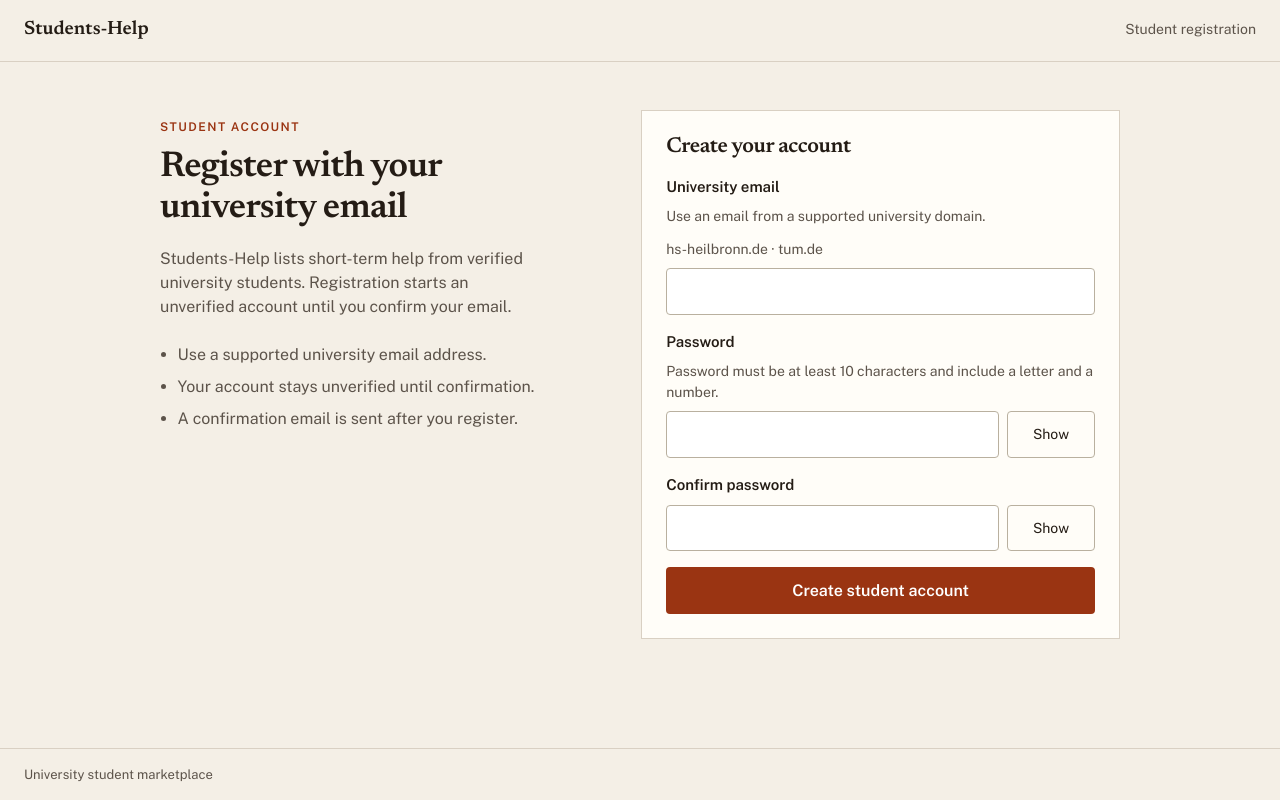
Scenario: Student registration › shows a password mismatch error
The width and height of the screenshot is (1280, 800).
Type "student@tum.de" into the field labelled "University email" at (881, 292), box [666, 268, 1095, 315]
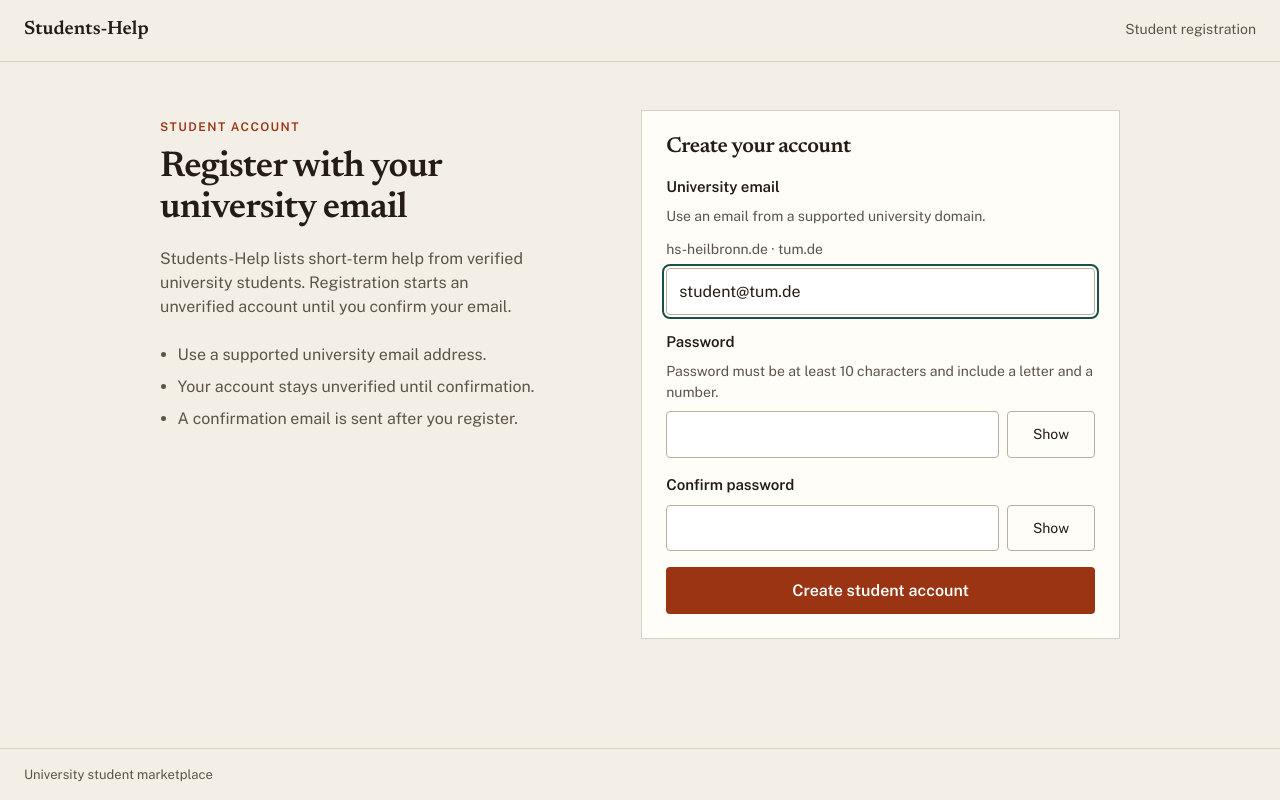
Type "securePass12" into the password field labelled "Password" at (833, 435), box [666, 411, 999, 458]
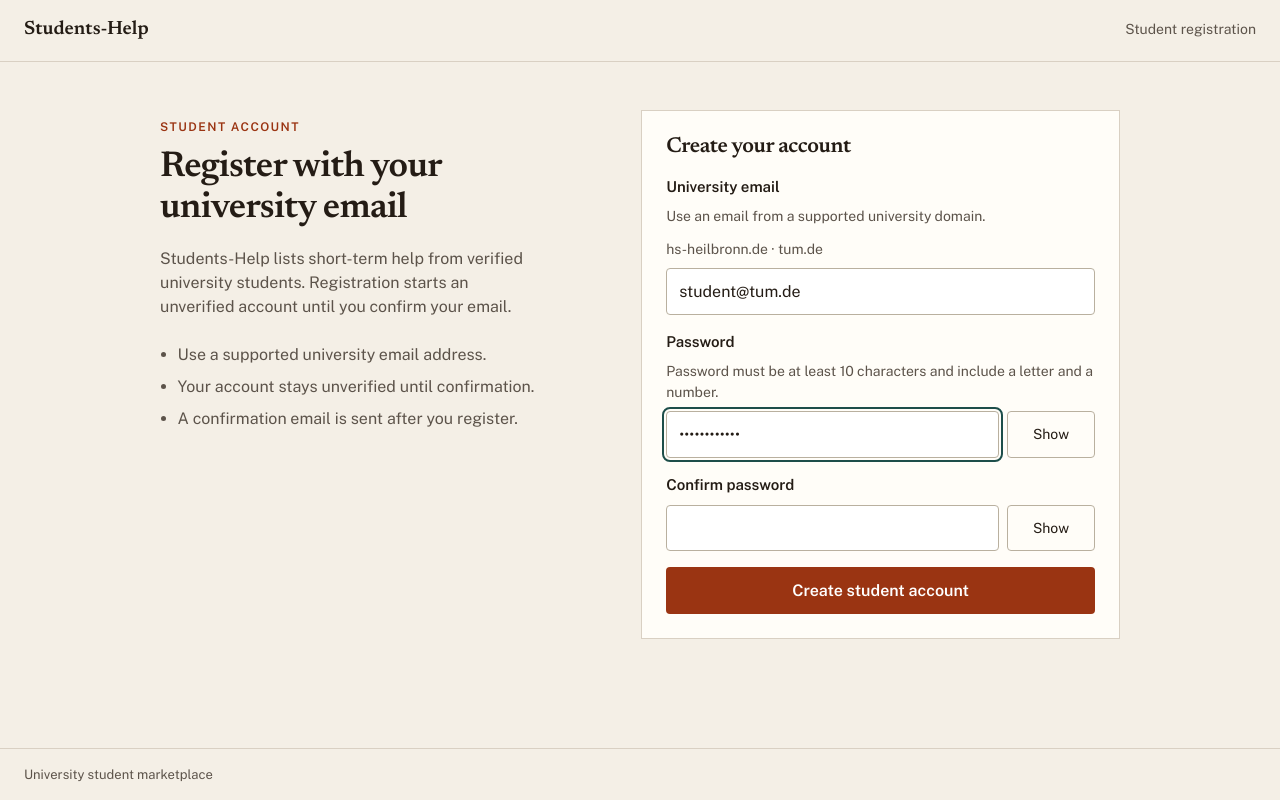
Type "differentPass12" into the password field labelled "Confirm password" at (833, 528), box [666, 505, 999, 552]
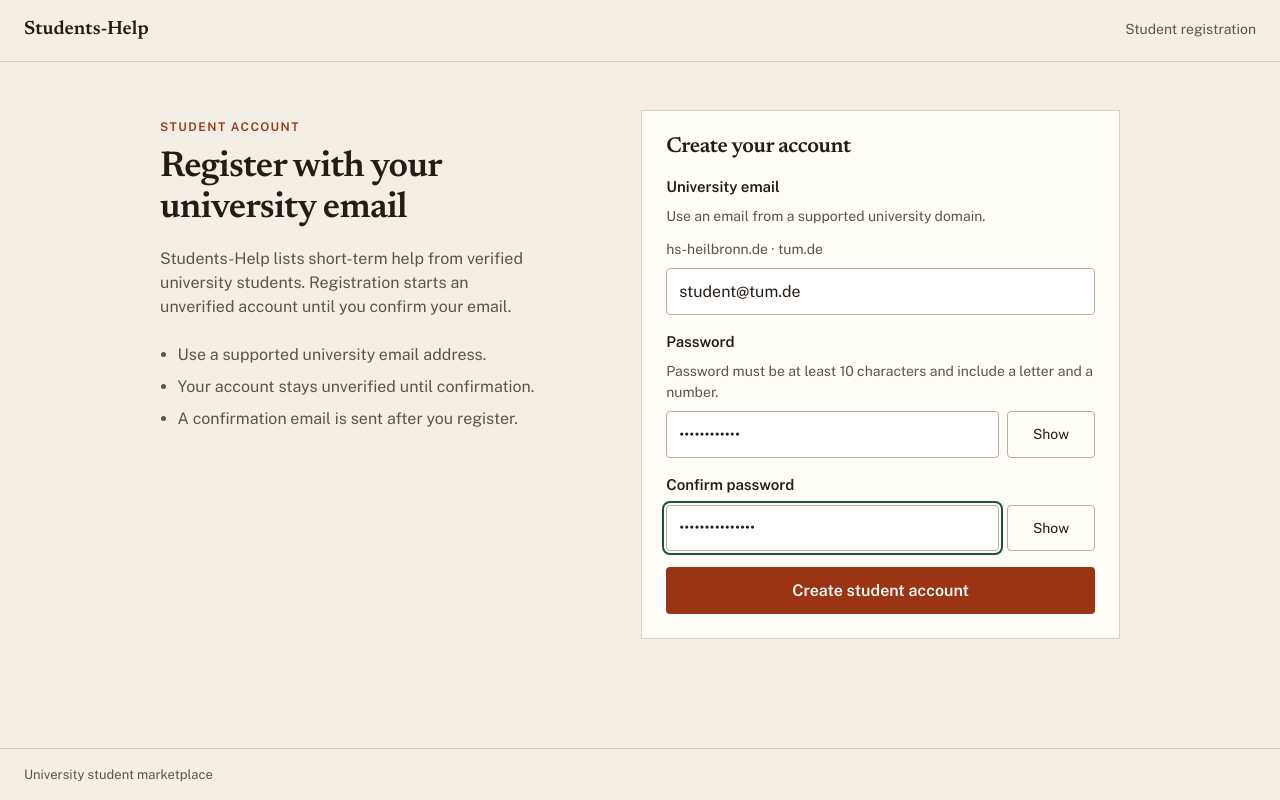
Click the button "Create student account" at (881, 591), box [666, 568, 1095, 614]
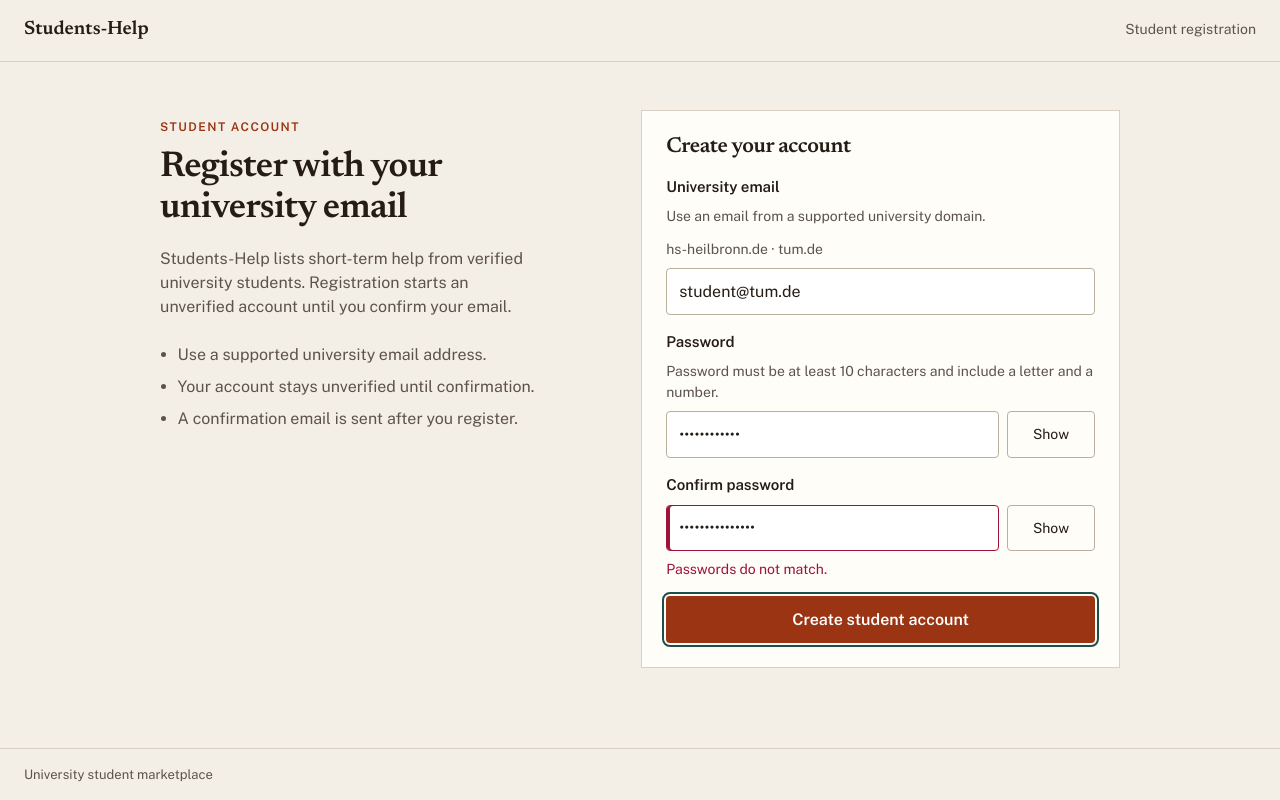
Result: the text "Passwords do not match." is shown at [666, 562, 827, 578]
